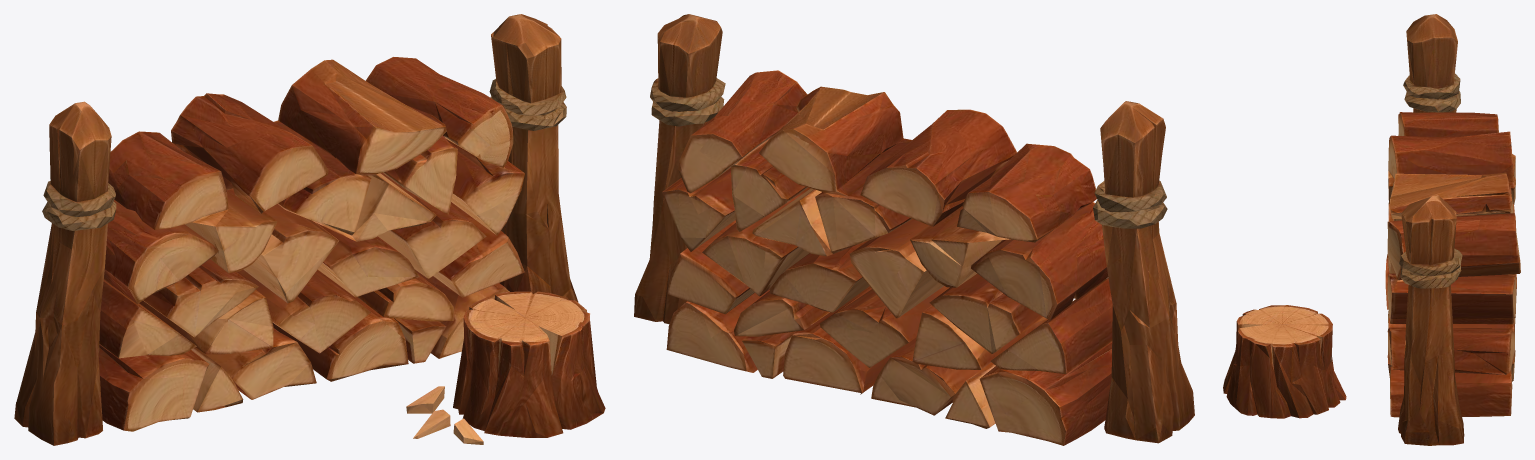
File: PRP-007.glb
3 views of the same model, side by side, from view 1: azimuth 30°, elevation 25°; view 2: azimuth 150°, elevation 25°; view 3: azimuth 270°, elevation 25° (orthographic). The views are drawn at different scales.
Parts seen in each view (by area): view 1: PRP-007; view 2: PRP-007; view 3: PRP-007.
Part boxes in pixels (x1,y1,x2,y2): PRP-007: [14, 14, 605, 445]; PRP-007: [634, 14, 1194, 445]; PRP-007: [1223, 14, 1520, 445].
Bounding box in the file's own units: 1.94 × 1.1 × 1.2.
Materials: 1 (1 with a texture image).
